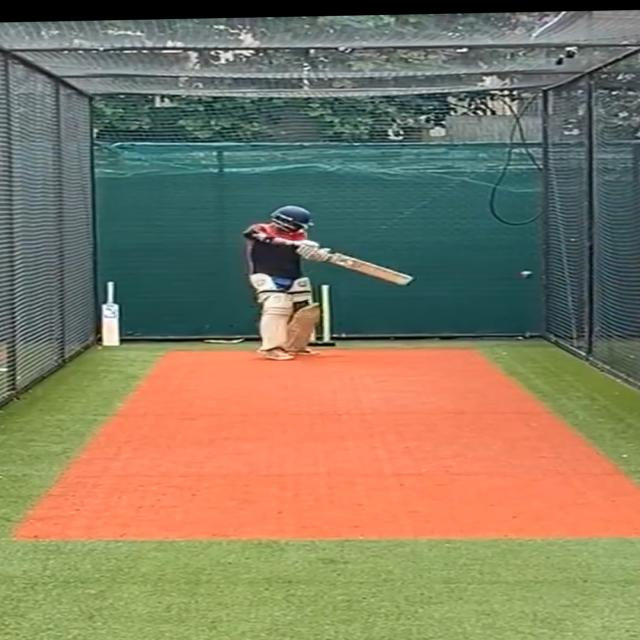ball: (518, 269, 537, 280)
stump: (303, 281, 334, 348)
